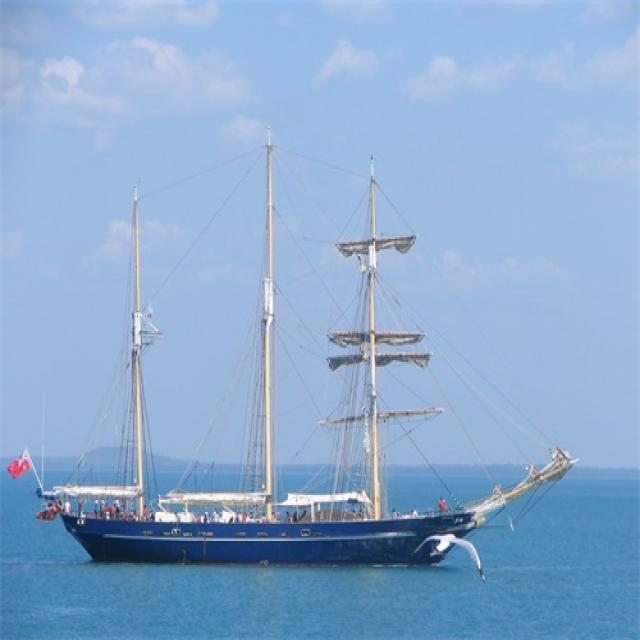Ship: (20, 138, 566, 573)
